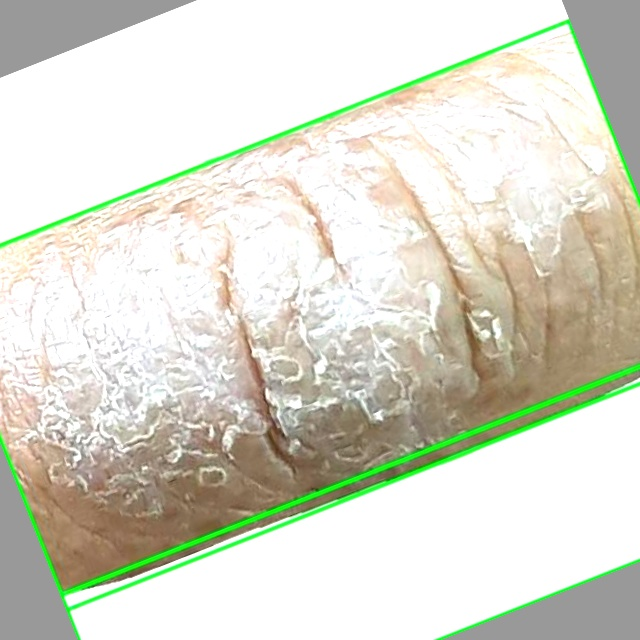Eczema: (0, 20, 639, 609), (61, 366, 639, 639)
